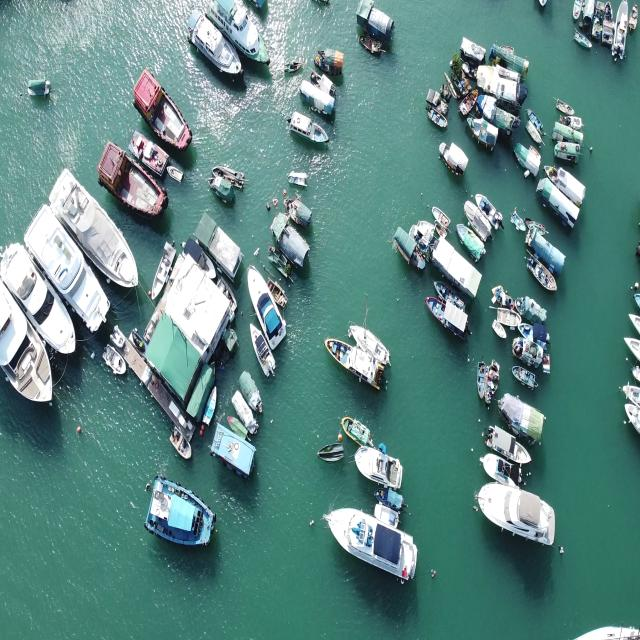ship: (22, 202, 106, 336), (317, 502, 423, 587), (97, 136, 172, 218), (468, 482, 566, 541), (144, 469, 216, 547), (179, 3, 243, 86), (210, 0, 269, 79), (135, 61, 188, 145), (246, 262, 292, 346), (324, 342, 384, 396), (486, 424, 538, 468), (284, 110, 334, 151), (350, 318, 392, 366), (529, 254, 561, 298), (249, 327, 276, 379), (236, 364, 261, 417), (509, 362, 542, 396), (479, 189, 502, 231), (212, 163, 246, 191), (101, 346, 127, 379), (207, 178, 240, 204), (169, 426, 194, 460), (342, 418, 374, 444), (24, 76, 55, 99), (317, 442, 349, 460), (473, 352, 484, 401), (284, 168, 309, 189), (554, 95, 580, 113), (524, 122, 544, 145), (574, 31, 591, 58), (492, 317, 506, 342)
